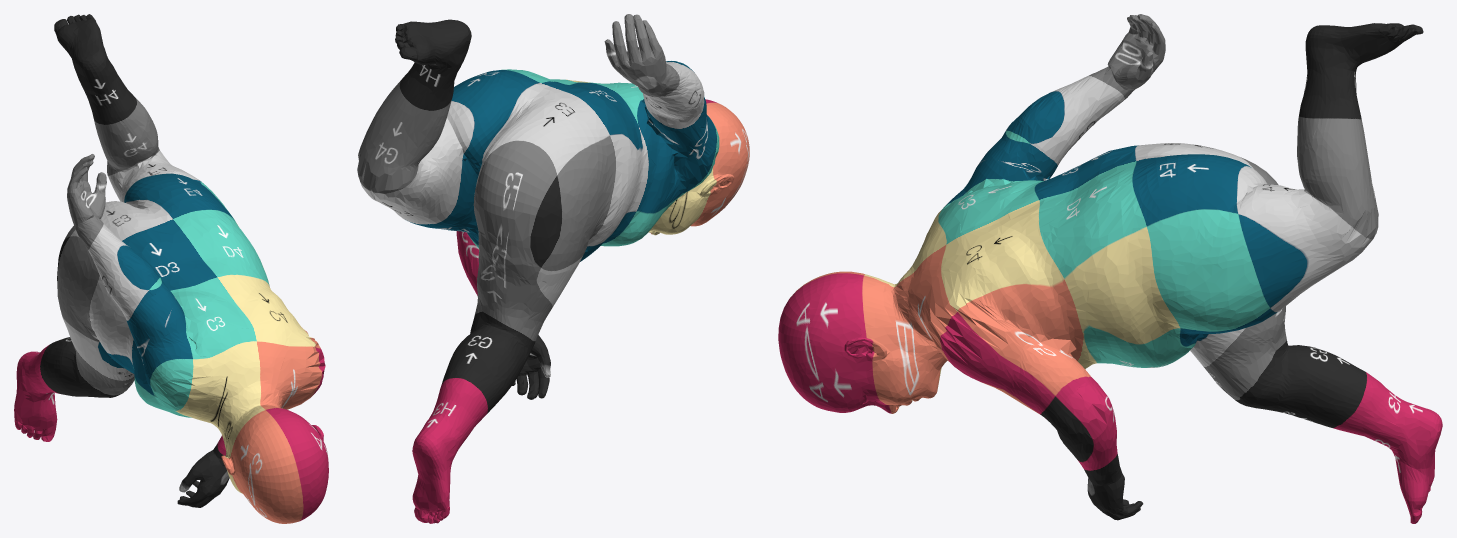
Rendered from kid00-kid09.obj.
3 views of the same model, side by side, from view 1: azimuth 30°, elevation 25°; view 2: azimuth 150°, elevation 25°; view 3: azimuth 270°, elevation 25° (orthographic). The views are drawn at different scales.
Visible parts, largest first — view 1: kid00-kid09_export; view 2: kid00-kid09_export; view 3: kid00-kid09_export.
Part boxes in pixels (x1,y1,x2,y2): kid00-kid09_export: (14,14,328,523); kid00-kid09_export: (357,14,749,523); kid00-kid09_export: (778,14,1442,523).
Bounding box in the file's own units: 0.3817 × 0.774 × 0.9006.
1 material, 1 textured.
